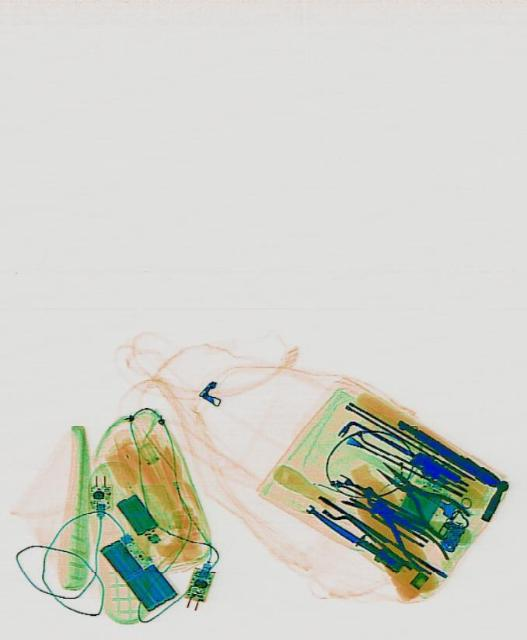Pliers: (366, 448, 471, 546), (365, 490, 452, 582)
